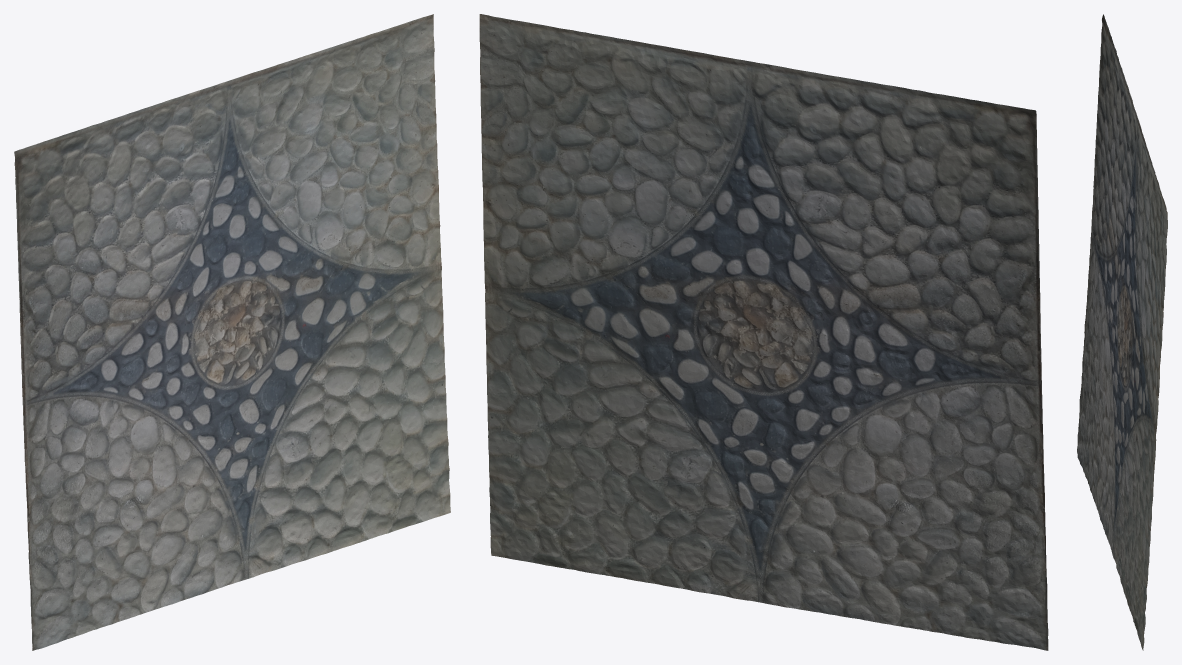
The model's file is lantai wc.fbx.
3 views of the same model, side by side, from view 1: azimuth 30°, elevation 25°; view 2: azimuth 150°, elevation 25°; view 3: azimuth 270°, elevation 25° (orthographic). The views are drawn at different scales.
Parts seen in each view (by area): view 1: Model; view 2: Model; view 3: Model.
Part boxes in pixels (box(x1,y1,x2,y2)): Model: box(14, 14, 450, 650); Model: box(479, 14, 1048, 650); Model: box(1077, 14, 1167, 650).
Size of the model in its own units: 7.41 by 7.55 by 1.42.
